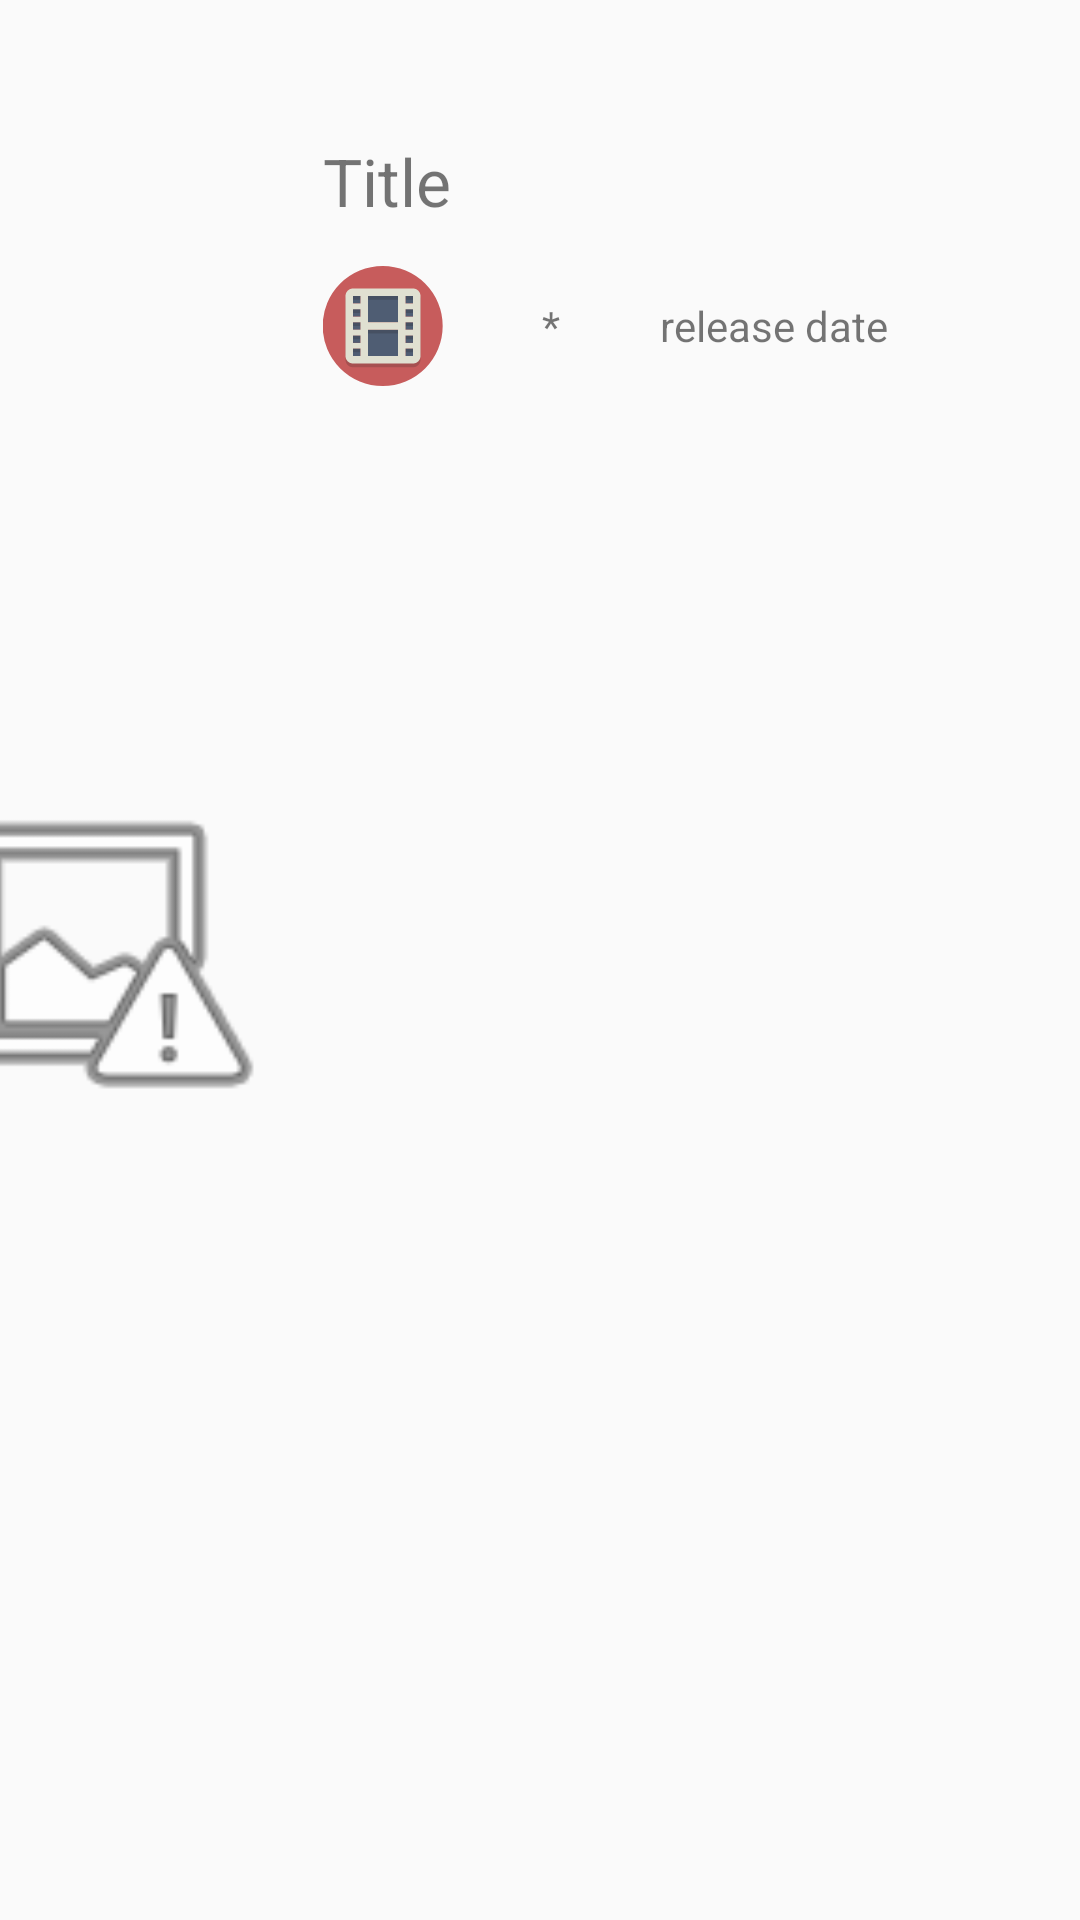

Named icons in this screenshot (1080px×1920px) and their bounding boxes, (x1, y1, x2, y2):
movie: (323, 266, 443, 386)
